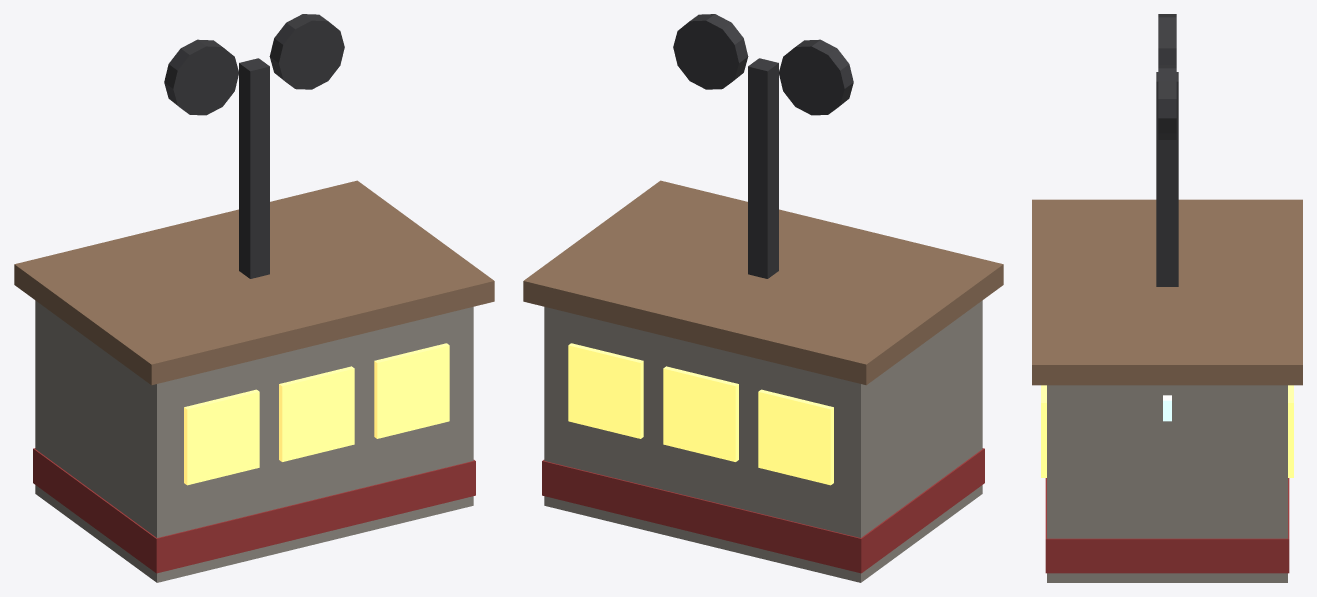
Rendered from gondola.glb.
3 views of the same model, side by side, from view 1: azimuth 30°, elevation 25°; view 2: azimuth 150°, elevation 25°; view 3: azimuth 270°, elevation 25° (orthographic).
Visible parts, largest first — view 1: gondola; view 2: gondola; view 3: gondola.
Part boxes in pixels (bbox=[...]): gondola: bbox=[14, 14, 494, 582]; gondola: bbox=[523, 14, 1003, 582]; gondola: bbox=[1032, 14, 1302, 582].
Size of the model in its own units: 2.6 by 3.4 by 1.8.
